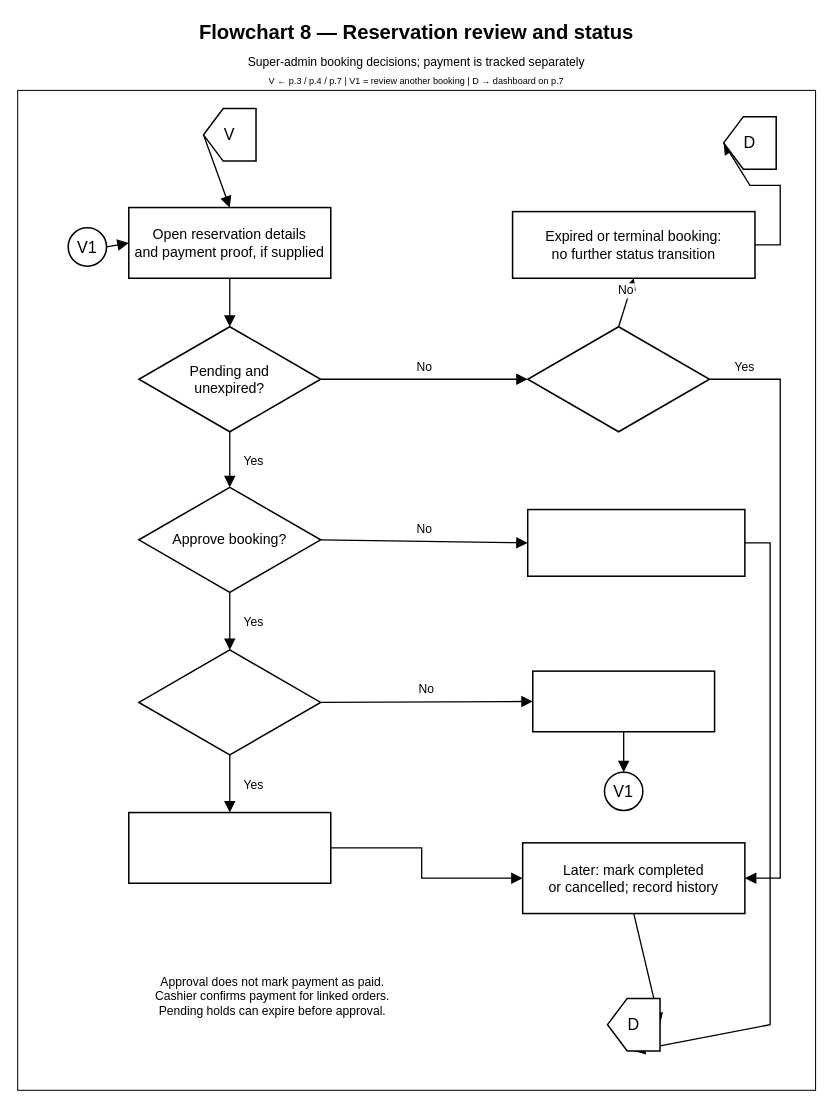
Some shapes in this 833 by 1108 pixel diagram are drawn without their labels. Here are the shapes that lost their labels. From the top down, the box of each, then its label:
(527, 326, 710, 432): Already confirmed?
(527, 508, 745, 577): Reject / cancel pending booking and record history
(138, 649, 321, 755): Future schedule and capacity valid?
(532, 670, 715, 732): Show conflict or past-schedule error
(128, 811, 331, 884): Mark confirmed; clear hold and record status history
